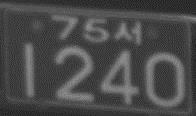0: (144, 51, 186, 110)
1: (13, 42, 46, 98)
2: (54, 44, 95, 102)
4: (99, 49, 140, 105)
5: (81, 16, 110, 43)
7: (50, 12, 79, 40)
서: (113, 19, 143, 47)
